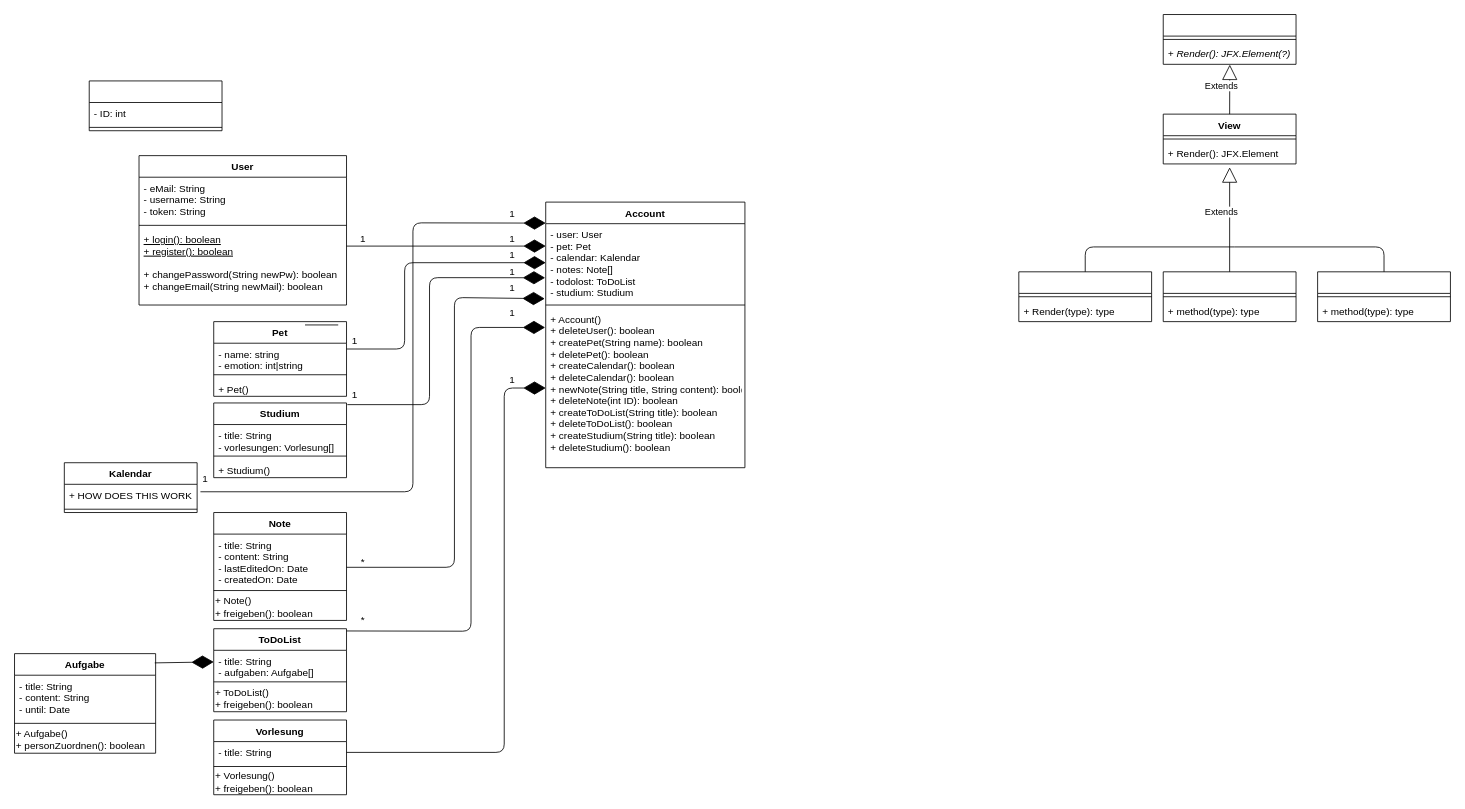
Image size: 1465x809. Some labels were removed from this diagram. The box of each missing label's shape, as (x1, y1, x2, y2) in pixels:
GUI: (1162, 14, 1296, 64)
Login: (1162, 271, 1296, 322)
Menü|Dashboard: (1317, 271, 1450, 322)
Register: (1018, 271, 1152, 322)
SacheAusDerDatenbankLol: (88, 80, 222, 131)
